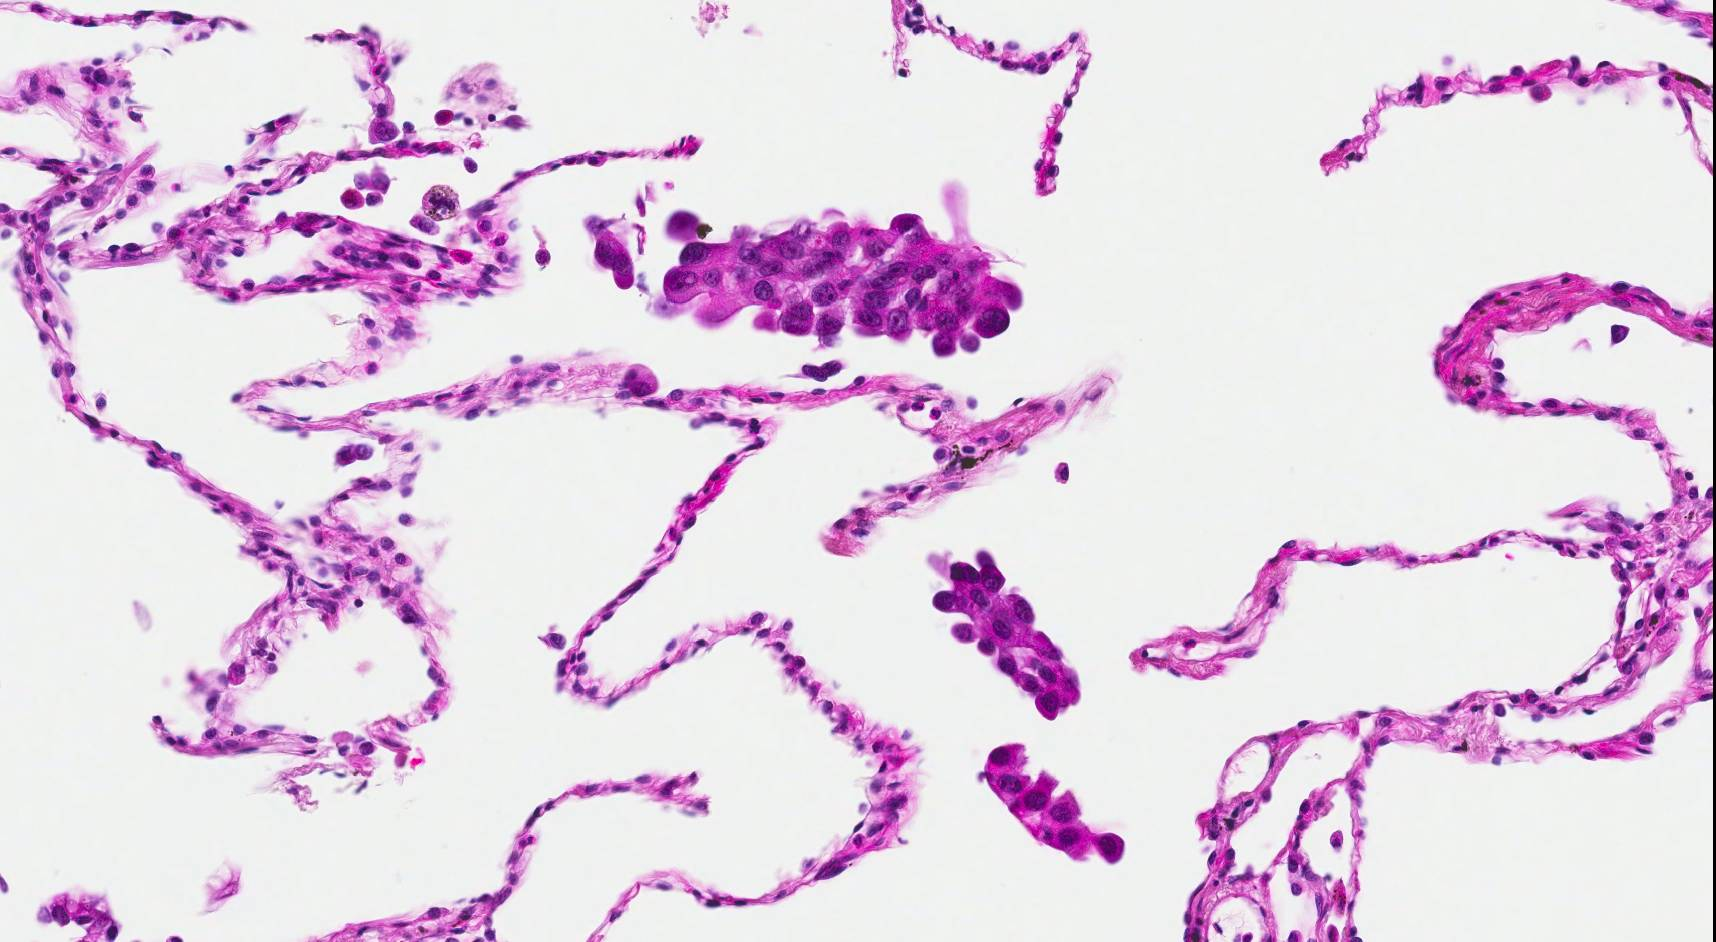stas: (660, 206, 1027, 361), (927, 541, 1085, 722), (982, 736, 1128, 869), (577, 212, 644, 299)
